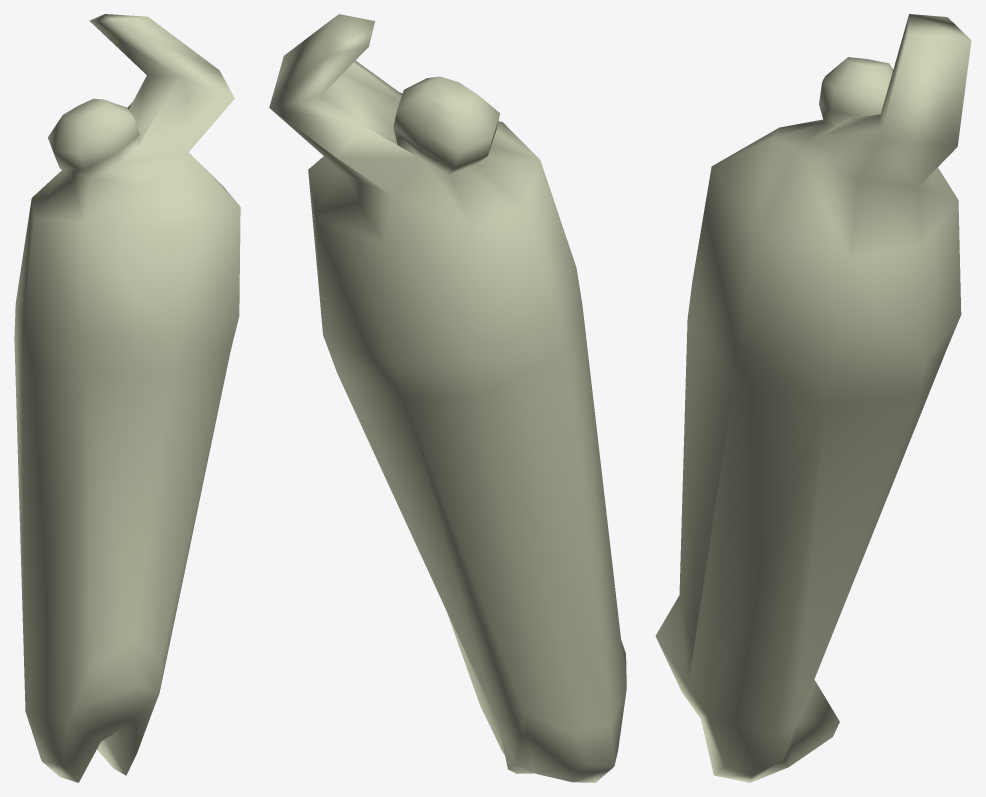
Rendered from anime_robot_left_upper_leg.dae.
3 views of the same model, side by side, from view 1: azimuth 30°, elevation 25°; view 2: azimuth 150°, elevation 25°; view 3: azimuth 270°, elevation 25° (orthographic). The views are drawn at different scales.
Visible parts, largest first — view 1: Cube8-0; view 2: Cube8-0; view 3: Cube8-0.
Part boxes in pixels (<box>): Cube8-0: <box>14,14,240,782</box>; Cube8-0: <box>269,14,626,782</box>; Cube8-0: <box>655,14,971,782</box>.
Bounding box in the file's own units: 1.35 × 3.69 × 1.31.
